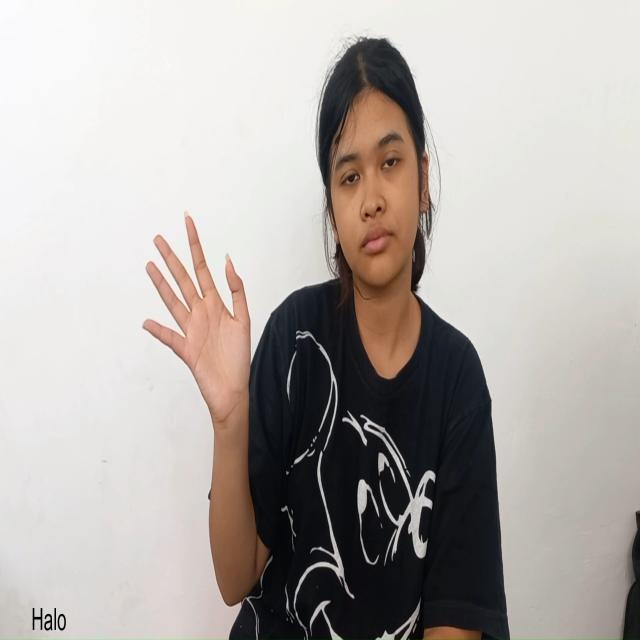Halo -BISINDO-: (136, 202, 257, 441)
